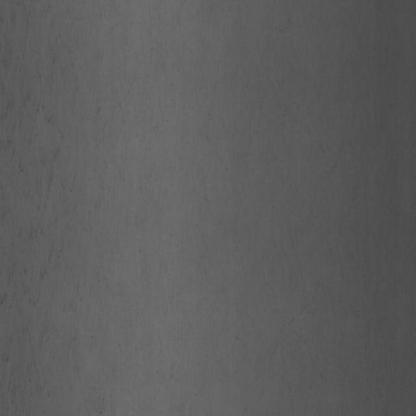silk_spot: (9, 64, 73, 278)
